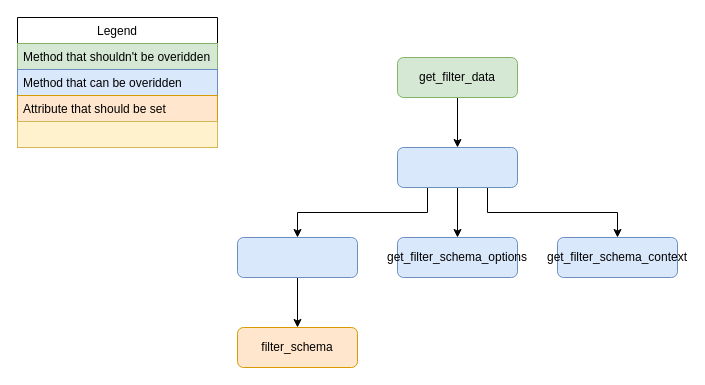
The diagram is 705 pixels wide and 385 high, and some of its shapes have lost their labels. Each missing label, with the centre of its shape:
Attribute that can be set: pixel 117 134
get_filter_schema_class: pixel 297 257
get_filter_schema_instance: pixel 457 167
